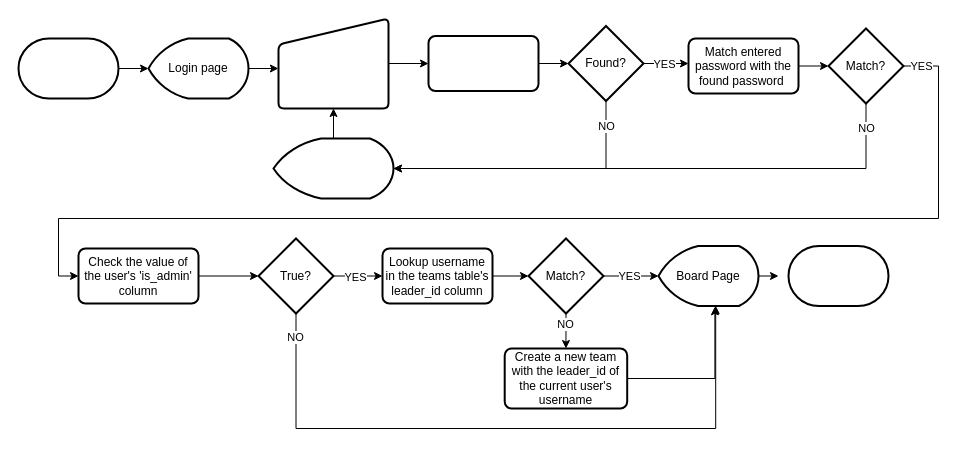
This 964x454 diagram has some shape labels left out. The centre of each missing label's shape, as x and y in pixels:
END: point (838, 275)
Login page with error message: point (333, 168)
Lookup username in the members table: point (483, 63)
START: point (68, 68)
User enters username, password, and clicks GO!: point (333, 63)
